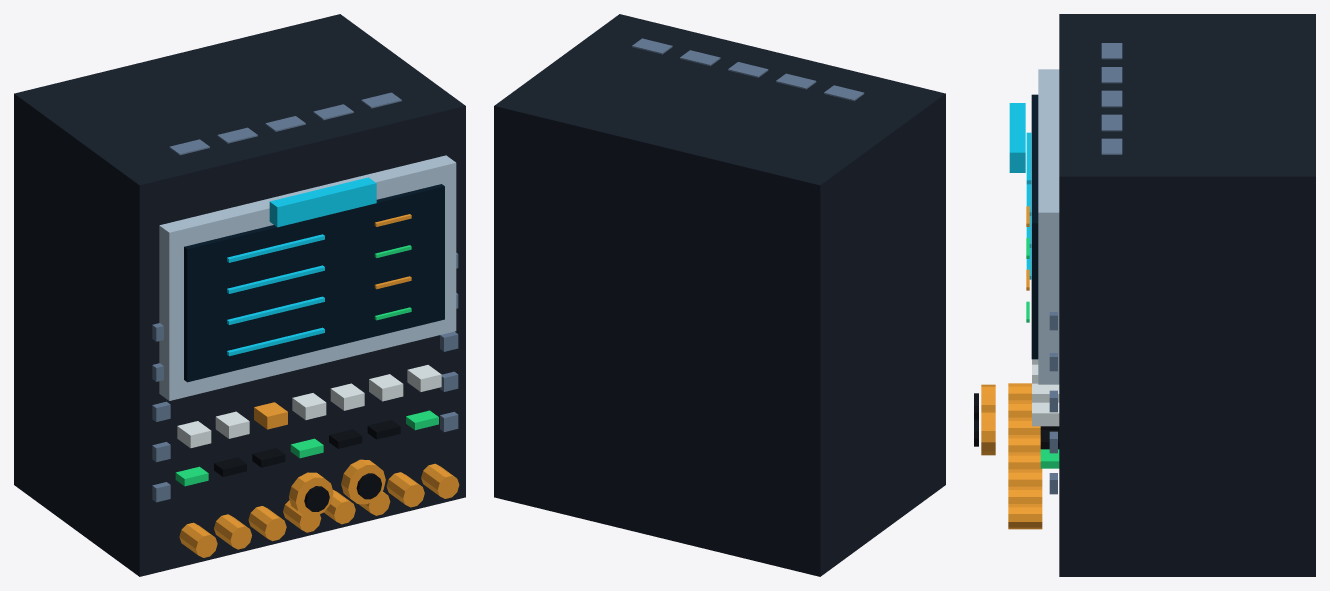
File: 51_L89_WaterWallLeakMonitor.fbx
The picture shows the model from 3 angles, left to right: view 1: azimuth 30°, elevation 25°; view 2: azimuth 150°, elevation 25°; view 3: azimuth 270°, elevation 25°; orthographic projection. The views are drawn at different scales.
Parts seen in each view (by area): view 1: L87_WaterWallLeakMonitor_Part_0000, L87_WaterWallLeakMonitor_Part_0002, L87_WaterWallLeakMonitor_Part_0001, L87_WaterWallLeakMonitor_Part_0004, L87_WaterWallLeakMonitor_Part_0008, L87_WaterWallLeakMonitor_Part_0006, L87_WaterWallLeakMonitor_Part_0009, L87_WaterWallLeakMonitor_Part_0003, L87_WaterWallLeakMonitor_Part_0007, L87_WaterWallLeakMonitor_Part_0005, L87_WaterWallLeakMonitor_Part_0012, L87_WaterWallLeakMonitor_Part_0010; view 2: L87_WaterWallLeakMonitor_Part_0000, L87_WaterWallLeakMonitor_Part_0008; view 3: L87_WaterWallLeakMonitor_Part_0000, L87_WaterWallLeakMonitor_Part_0001, L87_WaterWallLeakMonitor_Part_0004, L87_WaterWallLeakMonitor_Part_0008, L87_WaterWallLeakMonitor_Part_0002, L87_WaterWallLeakMonitor_Part_0006, L87_WaterWallLeakMonitor_Part_0009, L87_WaterWallLeakMonitor_Part_0003, L87_WaterWallLeakMonitor_Part_0012, L87_WaterWallLeakMonitor_Part_0005.
Part boxes in pixels (bbox=[...]): L87_WaterWallLeakMonitor_Part_0000: bbox=[14, 14, 465, 576]; L87_WaterWallLeakMonitor_Part_0002: bbox=[184, 184, 444, 382]; L87_WaterWallLeakMonitor_Part_0001: bbox=[159, 155, 456, 400]; L87_WaterWallLeakMonitor_Part_0004: bbox=[179, 214, 459, 557]; L87_WaterWallLeakMonitor_Part_0008: bbox=[152, 92, 458, 502]; L87_WaterWallLeakMonitor_Part_0006: bbox=[177, 365, 441, 448]; L87_WaterWallLeakMonitor_Part_0009: bbox=[269, 177, 376, 227]; L87_WaterWallLeakMonitor_Part_0003: bbox=[227, 234, 324, 356]; L87_WaterWallLeakMonitor_Part_0007: bbox=[214, 420, 400, 476]; L87_WaterWallLeakMonitor_Part_0005: bbox=[175, 245, 438, 486]; L87_WaterWallLeakMonitor_Part_0012: bbox=[341, 459, 385, 504]; L87_WaterWallLeakMonitor_Part_0010: bbox=[289, 472, 333, 516]; L87_WaterWallLeakMonitor_Part_0000: bbox=[494, 14, 945, 576]; L87_WaterWallLeakMonitor_Part_0008: bbox=[632, 38, 864, 101]; L87_WaterWallLeakMonitor_Part_0000: bbox=[1059, 14, 1315, 576]; L87_WaterWallLeakMonitor_Part_0001: bbox=[1038, 69, 1059, 384]; L87_WaterWallLeakMonitor_Part_0004: bbox=[1008, 206, 1042, 529]; L87_WaterWallLeakMonitor_Part_0008: bbox=[1049, 43, 1122, 494]; L87_WaterWallLeakMonitor_Part_0002: bbox=[1031, 94, 1038, 359]; L87_WaterWallLeakMonitor_Part_0006: bbox=[1032, 359, 1059, 426]; L87_WaterWallLeakMonitor_Part_0009: bbox=[1009, 103, 1025, 172]; L87_WaterWallLeakMonitor_Part_0003: bbox=[1026, 132, 1031, 279]; L87_WaterWallLeakMonitor_Part_0012: bbox=[981, 410, 995, 455]; L87_WaterWallLeakMonitor_Part_0005: bbox=[1026, 238, 1059, 468].
Bounding box in the file's own units: 112 × 129 × 99.6.
